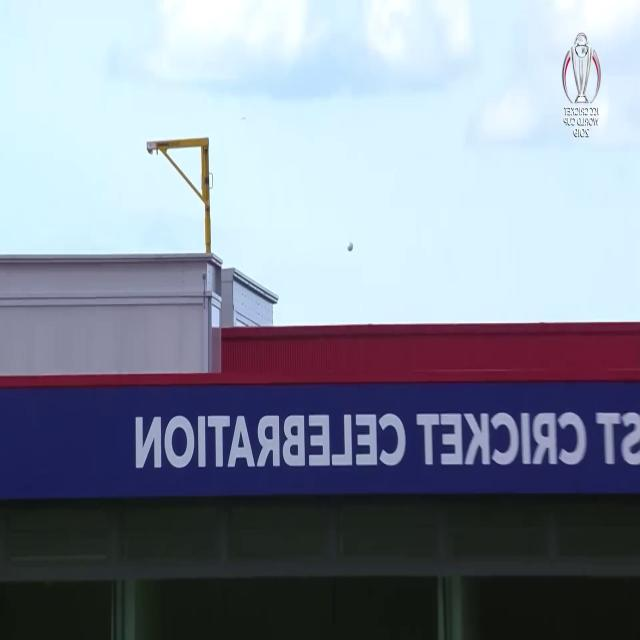ball: (344, 236, 356, 256)
